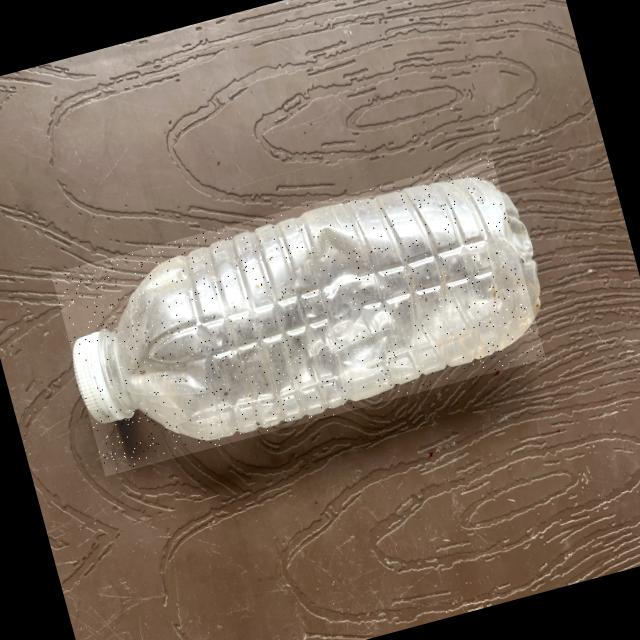REJECT: (49, 155, 544, 476)
